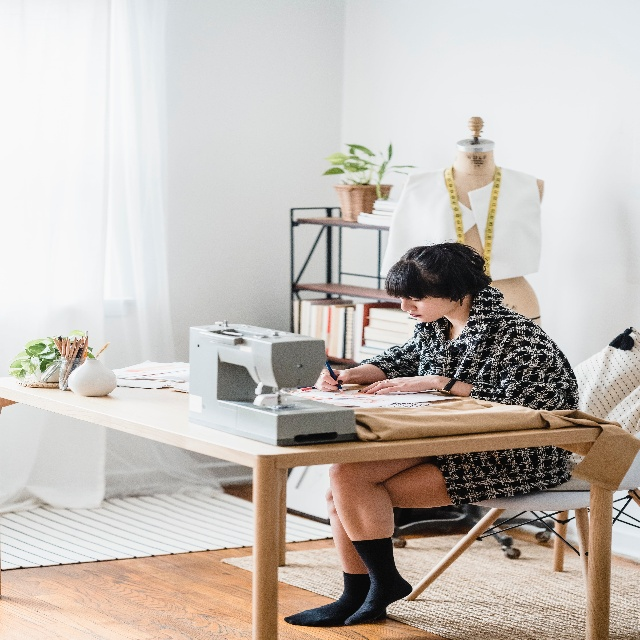Sin_guantes: (357, 375, 432, 396), (314, 368, 351, 392)
